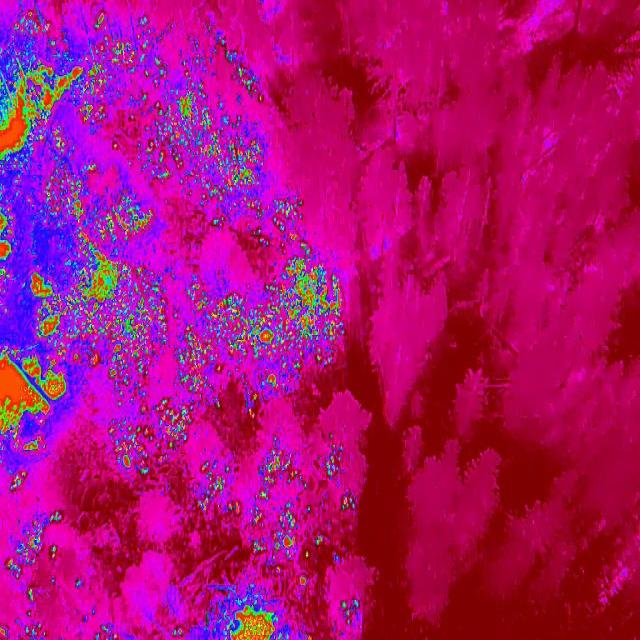fire: (176, 254, 347, 401), (143, 60, 270, 202), (252, 448, 324, 590), (70, 243, 166, 338), (0, 64, 84, 166), (84, 7, 152, 125), (106, 393, 202, 475), (72, 338, 160, 396), (79, 191, 159, 251), (0, 343, 69, 405), (5, 506, 60, 579), (26, 270, 73, 338), (42, 165, 96, 220), (268, 195, 310, 259), (0, 400, 50, 452), (219, 602, 286, 640), (198, 464, 244, 518), (323, 442, 357, 511), (8, 6, 52, 36), (0, 210, 15, 280), (336, 599, 364, 629), (240, 198, 268, 224), (240, 396, 262, 422), (10, 469, 29, 495), (24, 588, 38, 608), (108, 137, 121, 155), (0, 624, 11, 640)
